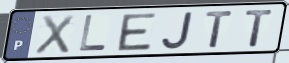E: (117, 11, 159, 52)
J: (160, 10, 195, 51)
L: (77, 14, 109, 53)
T: (244, 8, 276, 48), (204, 9, 236, 49)
X: (32, 14, 76, 56)
